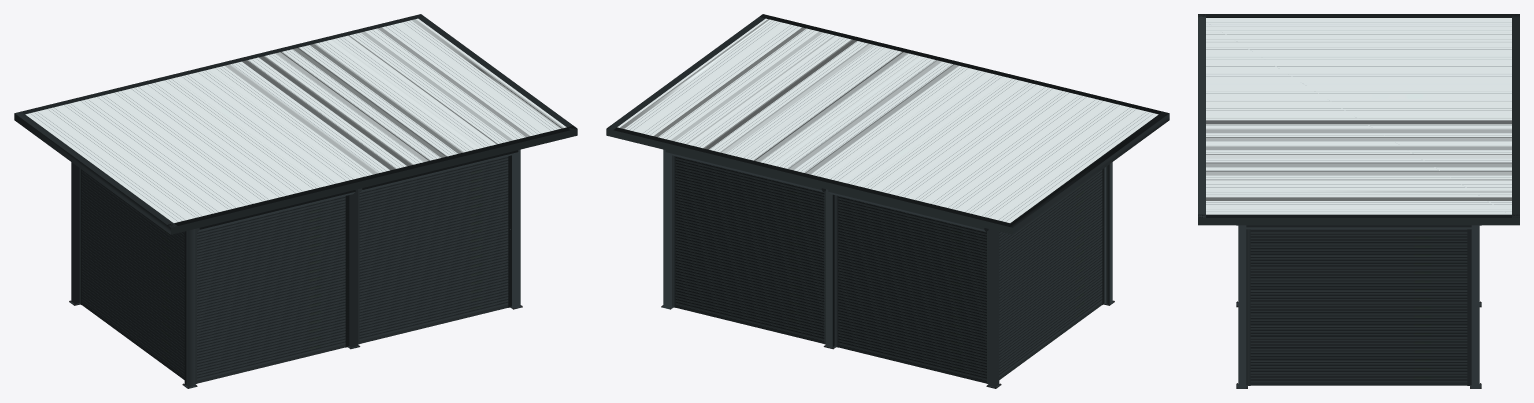
3 renders of one model, left to right at view 1: azimuth 30°, elevation 25°; view 2: azimuth 150°, elevation 25°; view 3: azimuth 270°, elevation 25°, orthographic. The views are drawn at different scales.
Visible parts, largest first — view 1: priximbattable_net_pergola_aluminium_29276_carport_aluminium, volet4, volet4_1, lame_8, lame_10, lame_6, lame_4, lame_14, lame_12, lame_9, lame_7, lame_5 (+45 smaller); view 2: priximbattable_net_pergola_aluminium_29276_carport_aluminium, volet3, volet3_1, lame_8_2, lame_10_2, lame_6_2, lame_4_2, lame_14_2, lame_12_2, lame_9_2, lame_7_2, lame_5_2 (+45 smaller); view 3: priximbattable_net_pergola_aluminium_29276_carport_aluminium, volet1, lame_17_6, lame_16_6, lame_12_6, lame_8_6, lame_4_7, lame_15_6, lame_14_6, lame_13_6, lame_11_6, lame_10_6 (+9 smaller).
Part boxes in pixels (box(x1,y1,x2,y2)): priximbattable_net_pergola_aluminium_29276_carport_aluminium: box(14, 14, 577, 388); volet4: box(195, 190, 355, 384); volet4_1: box(358, 150, 518, 344); lame_8: box(359, 219, 508, 263); lame_10: box(359, 236, 508, 280); lame_6: box(359, 202, 508, 246); lame_4: box(359, 185, 508, 229); lame_14: box(359, 270, 508, 314); lame_12: box(359, 253, 508, 297); lame_9: box(359, 228, 508, 272); lame_7: box(359, 210, 508, 255); lame_5: box(359, 193, 508, 238); priximbattable_net_pergola_aluminium_29276_carport_aluminium: box(606, 14, 1169, 388); volet3: box(828, 190, 988, 384); volet3_1: box(665, 150, 825, 344); lame_8_2: box(675, 219, 824, 263); lame_10_2: box(675, 236, 824, 280); lame_6_2: box(675, 202, 824, 246); lame_4_2: box(675, 185, 824, 229); lame_14_2: box(675, 270, 824, 314); lame_12_2: box(675, 253, 824, 297); lame_9_2: box(675, 228, 824, 272); lame_7_2: box(675, 210, 824, 255); lame_5_2: box(675, 193, 824, 238); priximbattable_net_pergola_aluminium_29276_carport_aluminium: box(1198, 14, 1519, 388); volet1: box(1246, 225, 1471, 385); lame_17_6: box(1250, 373, 1467, 382); lame_16_6: box(1250, 364, 1467, 373); lame_12_6: box(1250, 329, 1467, 338); lame_8_6: box(1250, 294, 1467, 303); lame_4_7: box(1250, 259, 1467, 268); lame_15_6: box(1250, 356, 1467, 364); lame_14_6: box(1250, 347, 1467, 355); lame_13_6: box(1250, 338, 1467, 346); lame_11_6: box(1250, 321, 1467, 329); lame_10_6: box(1250, 312, 1467, 320).
Bounding box in the file's own units: 600 × 259 × 400.
1 material, 1 textured.
